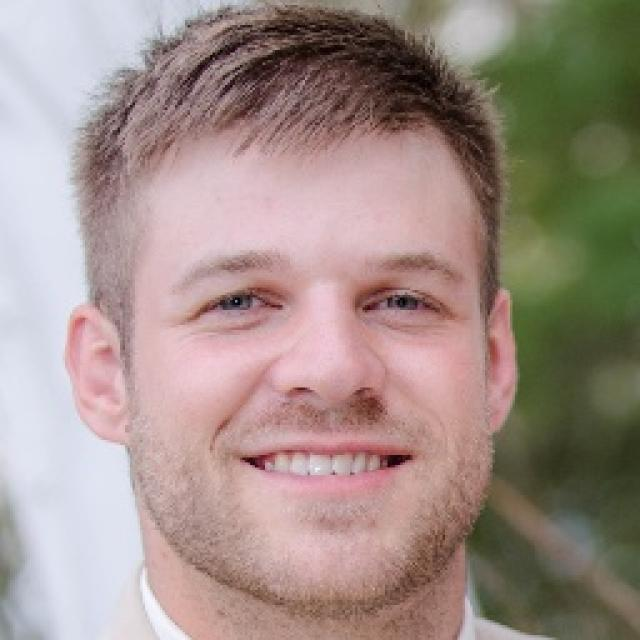earlobe: (64, 304, 131, 443), (483, 289, 521, 435)
